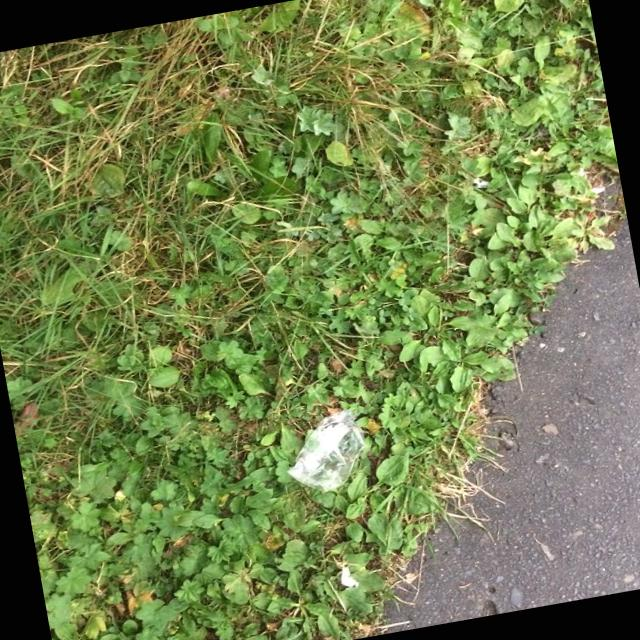Trash: (278, 396, 372, 496)
